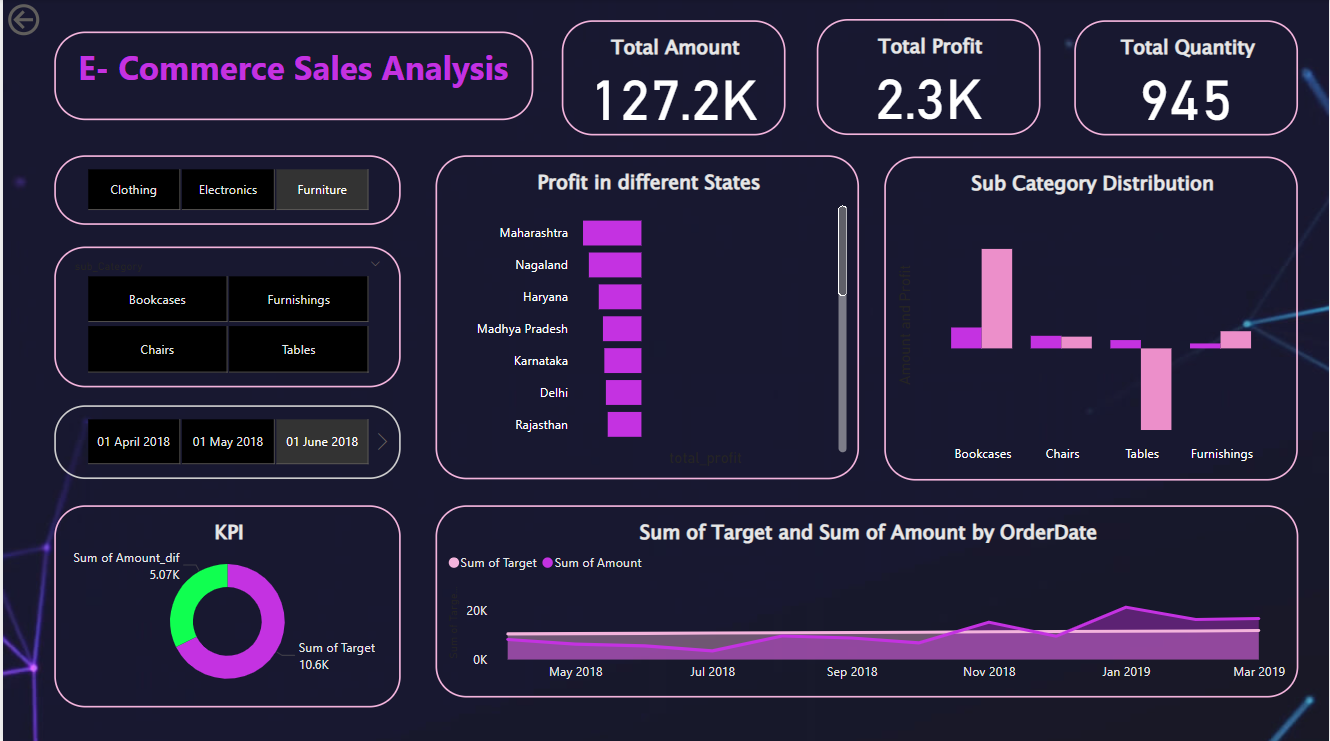

The dashboard page shown, as its layout file describes it:
{"tool":"powerbi","page":{"name":"Page 1","canvas":[1280,720],"ordinal":0},"visuals":[{"type":"slicer","fields":{"Values":["Categorical_Data.category"]},"box":[49.5,150.8,334.2,67.6],"z":0},{"type":"slicer","fields":{"Values":["Categorical_Data.sub_Category"]},"box":[49.5,238.9,334.2,136.3],"z":1000},{"type":"card","title":"Total Amount","fields":{"Values":["Sum(Categorical_Data.total_amount)"]},"box":[539.3,20.5,216,111],"z":2000},{"type":"clusteredBarChart","title":"Profit in different States","fields":{"Category":["Geographical_Data.state"],"Y":["Divide(Sum(Geographical_Data.total_profit), ScopedEval(Sum(Geographical_Data.total_profit), []))"]},"box":[417.4,150.8,409,312.5],"z":3000},{"type":"clusteredColumnChart","title":"Sub Category Distribution","fields":{"Category":["Categorical_Data.sub_Category"],"Y":["Sum(Categorical_Data.total_amount)","Sum(Categorical_Data.total_profit)"]},"box":[850.5,152,399.3,312.5],"z":4000},{"type":"areaChart","fields":{"Y":["Sum(Sales_Target.Target)","Sum(Sales_Target.Amount)"],"Category":["Sales_Target.OrderDate"]},"box":[417.4,488.6,832.4,185.8],"z":5000},{"type":"slicer","fields":{"Values":["Sales_Target.OrderDate"]},"box":[49.5,392.1,334.2,71.2],"z":6000},{"type":"donutChart","title":"KPI ","fields":{"Y":["Sum(Sales_Target.Target)","Sum(Sales_Target.Amount_dif)","Sum(Sales_Target.Lack_Amount)"]},"box":[49.5,488.6,334.2,195.4],"z":7000},{"type":"textbox","box":[49.5,31.4,462.1,85.7],"z":8000},{"type":"actionButton","box":[0,0,100,40],"z":9000},{"type":"card","title":"Total Profit","fields":{"Values":["Sum(Categorical_Data.total_profit)"]},"box":[785.4,19.3,216,112.2],"z":10000},{"type":"card","title":"Total Quantity","fields":{"Values":["Sum(Categorical_Data.total_quantity)"]},"box":[1033.9,20.5,216,111],"z":11000}]}

Visuals, with their boxes in screenshot pixels (x1, y1, x2, y2), scaled from the page's 1280x720 canvas onto the 1330x741 screenshot:
slicer - Categorical_Data.category: 51:155:399:225
slicer - Categorical_Data.sub_Category: 51:246:399:386
"Total Amount" card: 560:21:785:135
"Profit in different States" clusteredBarChart: 434:155:859:477
"Sub Category Distribution" clusteredColumnChart: 884:156:1299:478
areaChart - Sum(Sales_Target.Target) x Sum(Sales_Target.Amount): 434:503:1299:694
slicer - Sales_Target.OrderDate: 51:404:399:477
"KPI " donutChart: 51:503:399:704
textbox: 51:32:532:121
actionButton: 0:0:104:41
"Total Profit" card: 816:20:1041:135
"Total Quantity" card: 1074:21:1299:135
